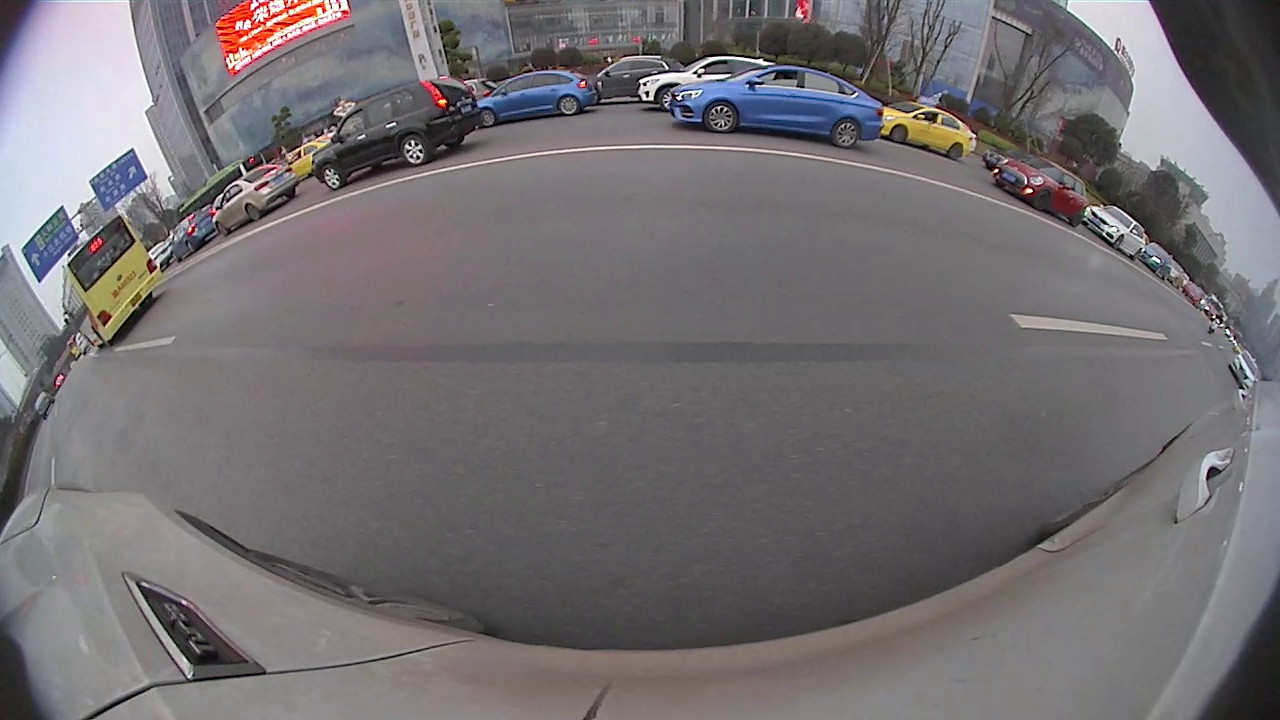bus: (61, 212, 164, 351), (174, 156, 251, 225)
car: (310, 77, 478, 191), (669, 63, 883, 152), (633, 58, 774, 113), (475, 69, 600, 130), (993, 153, 1088, 227), (212, 162, 294, 237), (878, 103, 976, 161), (585, 54, 670, 103), (1080, 203, 1149, 262)
front: (702, 99, 741, 136), (319, 162, 345, 191), (656, 86, 683, 113), (887, 121, 910, 147), (477, 106, 496, 130), (1032, 191, 1053, 211), (213, 219, 232, 237)
rear: (401, 135, 431, 167), (829, 120, 862, 149), (557, 93, 580, 118), (944, 142, 965, 162), (246, 202, 262, 223), (1071, 212, 1084, 228), (285, 189, 297, 202)
